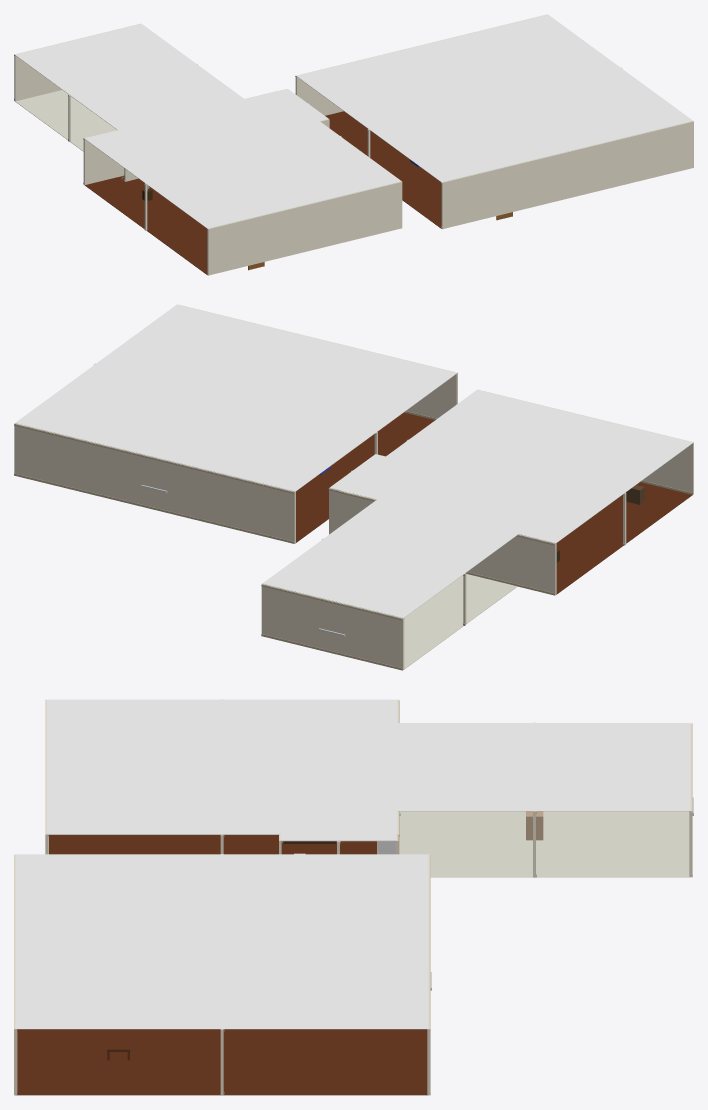
File: ultra_detailed_8156.obj
The picture shows the model from 3 angles, top to bottom: view 1: azimuth 30°, elevation 25°; view 2: azimuth 150°, elevation 25°; view 3: azimuth 270°, elevation 25°; orthographic projection. The views are drawn at different scales.
Parts seen in each view (by area): view 1: Living_Room_1_ceiling_Living_Room_1_ceiling_material, Bedroom_1_ceiling_Bedroom_1_ceiling_material, Kitchen_1_ceiling_Kitchen_1_ceiling_material, Living_Room_1_front_wall_Living_Room_1_front_wall_material, Bedroom_1_front_wall_Bedroom_1_front_wall_material, Bedroom_1_floor_Bedroom_1_floor_material, Living_Room_1_floor_Living_Room_1_floor_material, Bathroom_1_ceiling_Bathroom_1_ceiling_material, Kitchen_1_floor_Kitchen_1_floor_material, Kitchen_1_back_wall_Kitchen_1_back_wall_material, Bedroom_1_back_wall_Bedroom_1_back_wall_material, Living_Room_1_back_wall_Living_Room_1_back_wall_material; view 2: Living_Room_1_ceiling_Living_Room_1_ceiling_material, Bedroom_1_ceiling_Bedroom_1_ceiling_material, Kitchen_1_ceiling_Kitchen_1_ceiling_material, Living_Room_1_back_wall_Living_Room_1_back_wall_material, Kitchen_1_back_wall_Kitchen_1_back_wall_material, Bedroom_1_floor_Bedroom_1_floor_material, Kitchen_1_floor_Kitchen_1_floor_material, Living_Room_1_floor_Living_Room_1_floor_material, Bedroom_1_back_wall_Bedroom_1_back_wall_material, Bathroom_1_ceiling_Bathroom_1_ceiling_material, Bedroom_1_front_wall_Bedroom_1_front_wall_material, Living_Room_1_front_wall_Living_Room_1_front_wall_material (+2 smaller); view 3: Living_Room_1_ceiling_Living_Room_1_ceiling_material, Bedroom_1_ceiling_Bedroom_1_ceiling_material, Living_Room_1_floor_Living_Room_1_floor_material, Kitchen_1_ceiling_Kitchen_1_ceiling_material, Kitchen_1_floor_Kitchen_1_floor_material, Bedroom_1_floor_Bedroom_1_floor_material, Bathroom_1_ceiling_Bathroom_1_ceiling_material, Living_Room_1_back_wall_Living_Room_1_back_wall_material.
Boxes of the visible parts, <box> form: Living_Room_1_ceiling_Living_Room_1_ceiling_material: <box>296,14,692,182</box>; Bedroom_1_ceiling_Bedroom_1_ceiling_material: <box>84,91,401,228</box>; Kitchen_1_ceiling_Kitchen_1_ceiling_material: <box>15,23,251,134</box>; Living_Room_1_front_wall_Living_Room_1_front_wall_material: <box>441,121,693,229</box>; Bedroom_1_front_wall_Bedroom_1_front_wall_material: <box>207,181,402,275</box>; Bedroom_1_floor_Bedroom_1_floor_material: <box>84,175,206,274</box>; Living_Room_1_floor_Living_Room_1_floor_material: <box>325,111,441,228</box>; Bathroom_1_ceiling_Bathroom_1_ceiling_material: <box>224,89,328,135</box>; Kitchen_1_floor_Kitchen_1_floor_material: <box>15,90,123,178</box>; Kitchen_1_back_wall_Kitchen_1_back_wall_material: <box>14,23,140,101</box>; Bedroom_1_back_wall_Bedroom_1_back_wall_material: <box>83,91,277,184</box>; Living_Room_1_back_wall_Living_Room_1_back_wall_material: <box>295,14,547,115</box>; Living_Room_1_ceiling_Living_Room_1_ceiling_material: <box>15,304,456,491</box>; Bedroom_1_ceiling_Bedroom_1_ceiling_material: <box>340,390,692,543</box>; Kitchen_1_ceiling_Kitchen_1_ceiling_material: <box>262,499,525,618</box>; Living_Room_1_back_wall_Living_Room_1_back_wall_material: <box>14,423,295,543</box>; Kitchen_1_back_wall_Kitchen_1_back_wall_material: <box>261,584,404,669</box>; Bedroom_1_floor_Bedroom_1_floor_material: <box>556,482,692,594</box>; Kitchen_1_floor_Kitchen_1_floor_material: <box>404,574,517,669</box>; Living_Room_1_floor_Living_Room_1_floor_material: <box>295,412,434,543</box>; Bedroom_1_back_wall_Bedroom_1_back_wall_material: <box>339,490,556,595</box>; Bathroom_1_ceiling_Bathroom_1_ceiling_material: <box>329,454,453,506</box>; Bedroom_1_front_wall_Bedroom_1_front_wall_material: <box>477,389,693,494</box>; Living_Room_1_front_wall_Living_Room_1_front_wall_material: <box>177,304,457,418</box>; Living_Room_1_ceiling_Living_Room_1_ceiling_material: <box>15,854,428,1029</box>; Bedroom_1_ceiling_Bedroom_1_ceiling_material: <box>46,699,397,834</box>; Living_Room_1_floor_Living_Room_1_floor_material: <box>15,1029,428,1095</box>; Kitchen_1_ceiling_Kitchen_1_ceiling_material: <box>378,723,690,811</box>; Kitchen_1_floor_Kitchen_1_floor_material: <box>399,811,690,877</box>; Bedroom_1_floor_Bedroom_1_floor_material: <box>49,835,376,854</box>; Bathroom_1_ceiling_Bathroom_1_ceiling_material: <box>280,792,396,841</box>; Living_Room_1_back_wall_Living_Room_1_back_wall_material: <box>427,854,430,1095</box>.
Bounding box in the file's own units: 26.88 × 2.87 × 23.36.
